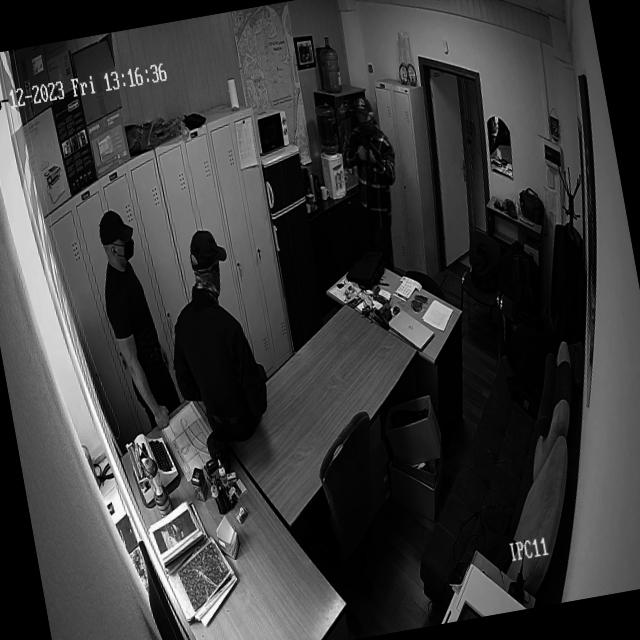gun: (352, 126, 390, 178), (492, 198, 504, 212)
person: (150, 223, 280, 464), (88, 205, 181, 425)
person with a gun: (344, 92, 416, 270)
